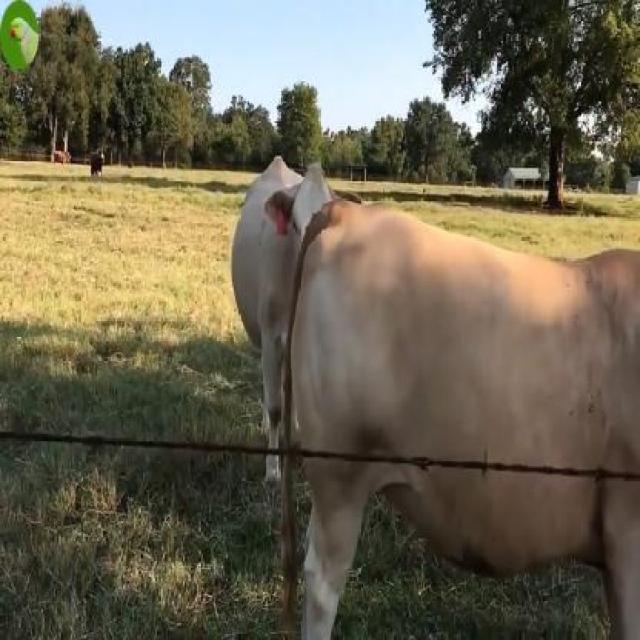Cow: (232, 148, 328, 462)
